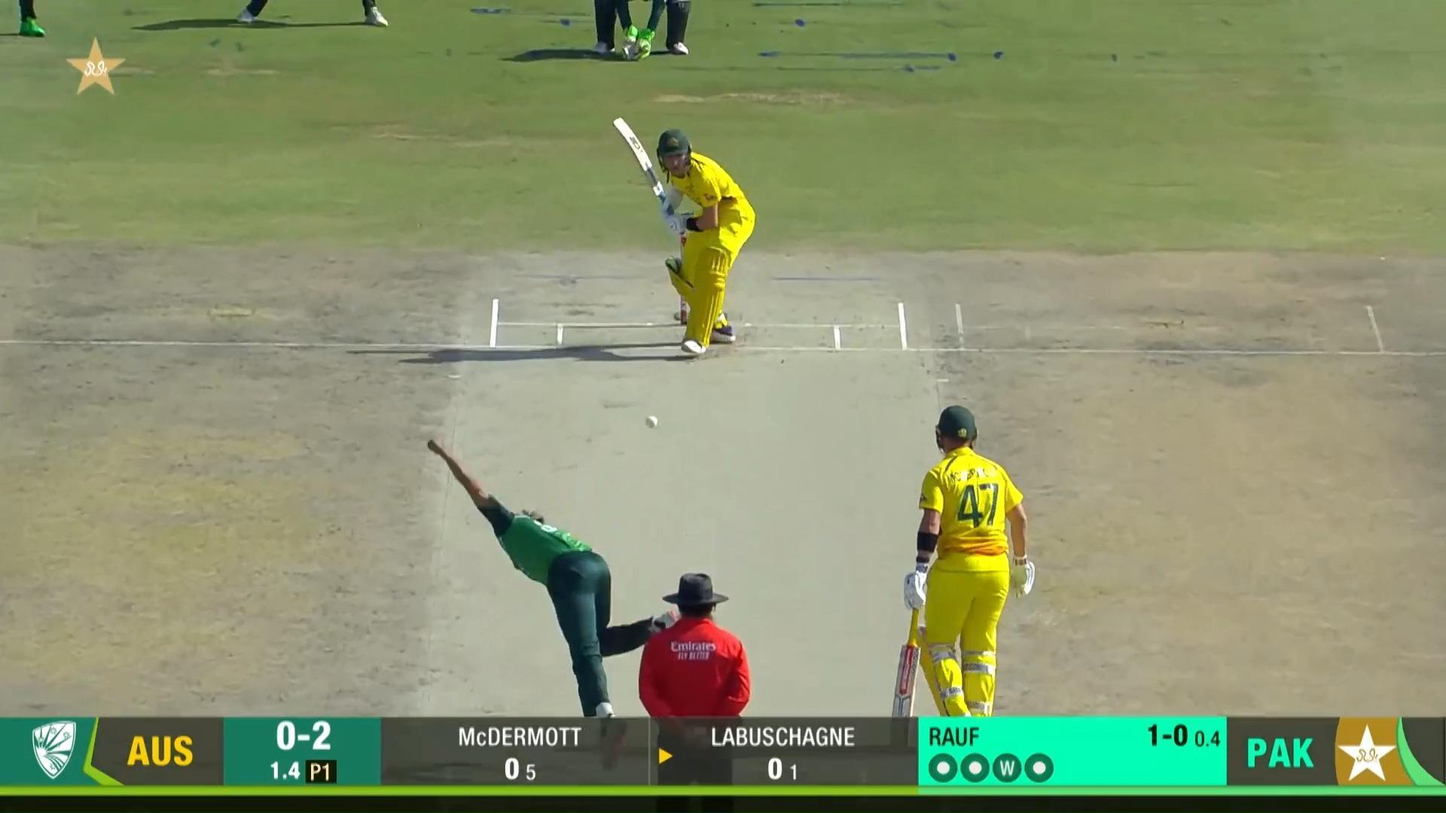BM 1: (612, 115, 757, 355)
BO: (425, 435, 678, 765)
